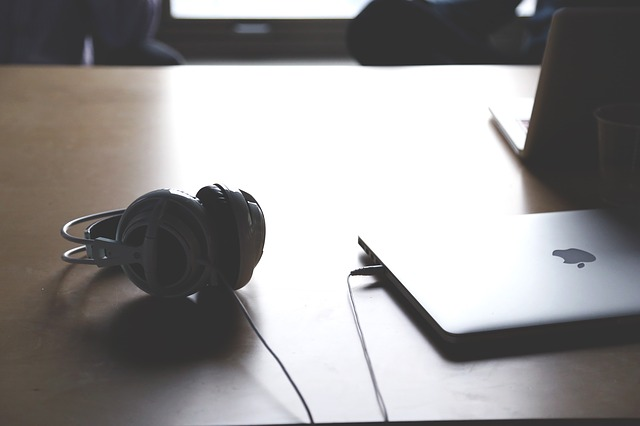headphones: (61, 183, 266, 300)
